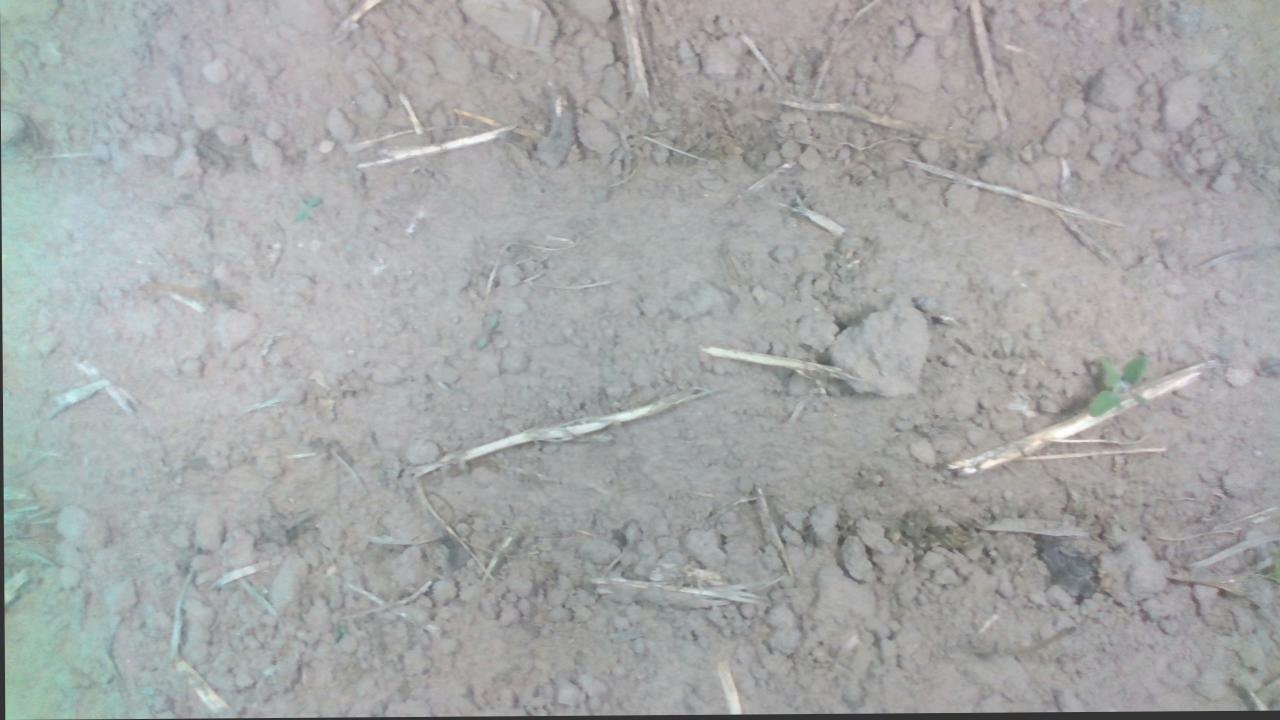weed: (1084, 352, 1151, 420)
